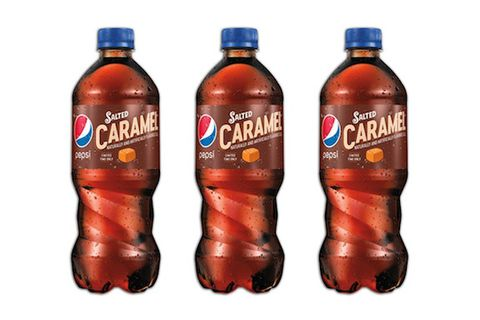pepsi: (72, 113, 92, 147), (196, 112, 216, 146), (320, 113, 339, 147)
